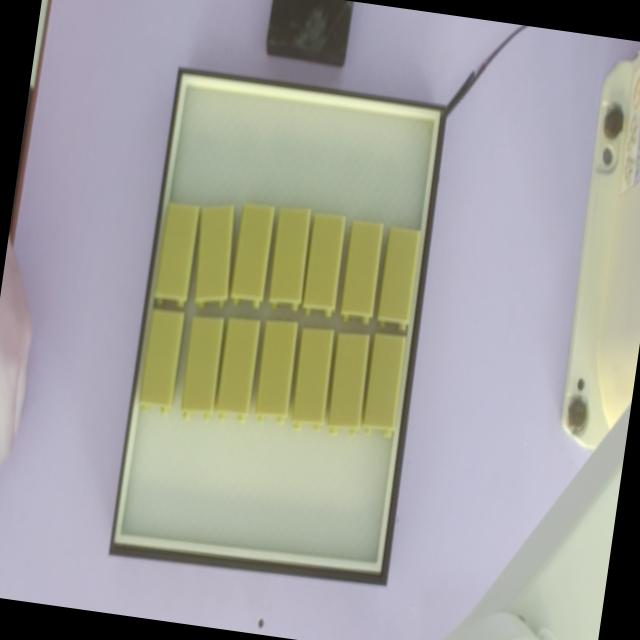bateria: (290, 323, 336, 432), (215, 317, 262, 422), (340, 220, 387, 325), (302, 212, 349, 317), (230, 204, 277, 309), (362, 331, 408, 438), (139, 309, 186, 413), (154, 204, 201, 308), (376, 226, 423, 330), (179, 316, 225, 420), (267, 205, 311, 312), (254, 320, 298, 425), (327, 331, 371, 436), (194, 206, 234, 310)
mesa: (109, 68, 447, 587)
